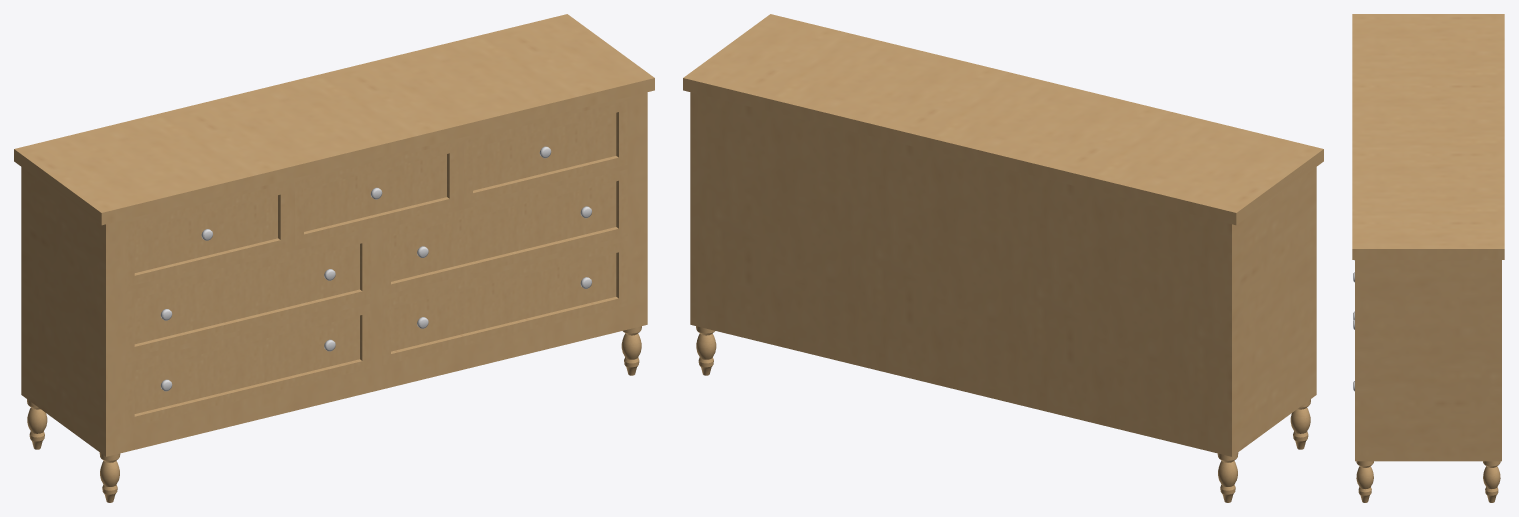
File: Drawer35.fbx
The picture shows the model from 3 angles, left to right: view 1: azimuth 30°, elevation 25°; view 2: azimuth 150°, elevation 25°; view 3: azimuth 270°, elevation 25°; orthographic projection. The views are drawn at different scales.
Parts seen in each view (by area): view 1: Drawer35_Body, Drawer35_4, Drawer35_5, Drawer35_6, Drawer35_7, Drawer35_1, Drawer35_2, Drawer35_3; view 2: Drawer35_Body; view 3: Drawer35_Body.
Part boxes in pixels (x1,y1,x2,y2): Drawer35_Body: [14, 14, 654, 502]; Drawer35_4: [125, 232, 371, 358]; Drawer35_5: [382, 169, 627, 295]; Drawer35_6: [125, 303, 371, 427]; Drawer35_7: [382, 241, 627, 365]; Drawer35_1: [125, 183, 289, 286]; Drawer35_2: [295, 142, 458, 245]; Drawer35_3: [464, 100, 627, 204]; Drawer35_Body: [683, 14, 1323, 502]; Drawer35_Body: [1352, 14, 1504, 502].
Bounding box in the file's own units: 208 × 107 × 56.99.
